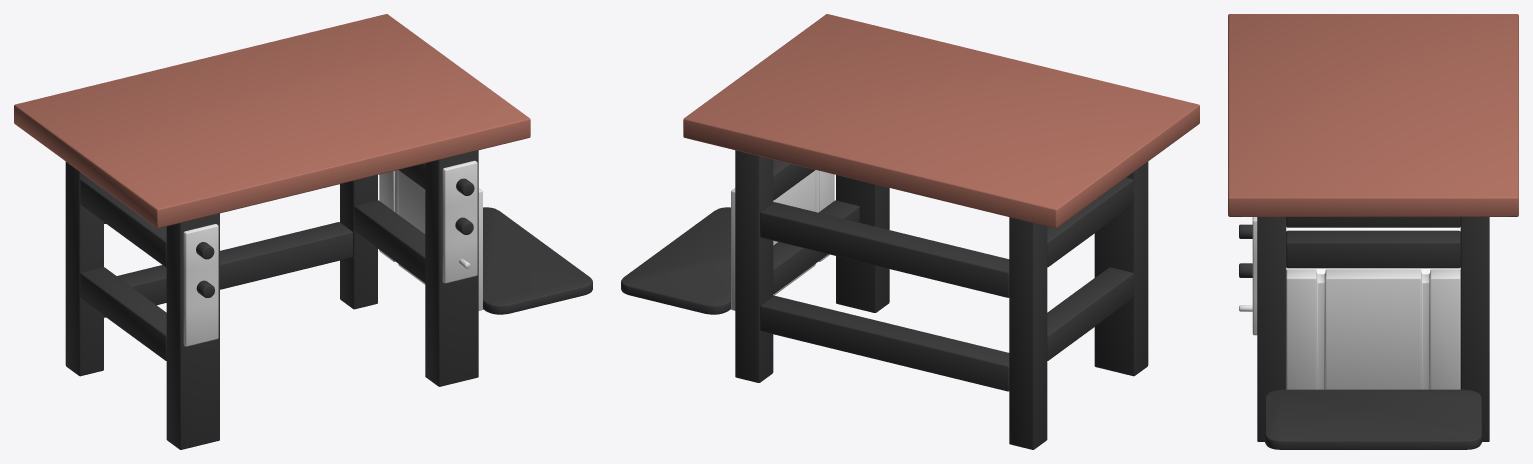
File: S_SupportGraverie.fbx
The picture shows the model from 3 angles, left to right: view 1: azimuth 30°, elevation 25°; view 2: azimuth 150°, elevation 25°; view 3: azimuth 270°, elevation 25°; orthographic projection.
Parts seen in each view (by area): view 1: Cube.075; view 2: Cube.075; view 3: Cube.075.
Part boxes in pixels (left/top/right/bottom): Cube.075: left=14, top=14, right=592, bottom=449; Cube.075: left=621, top=14, right=1199, bottom=449; Cube.075: left=1228, top=14, right=1518, bottom=449.
Size of the model in its own units: 184 by 100 by 100.
